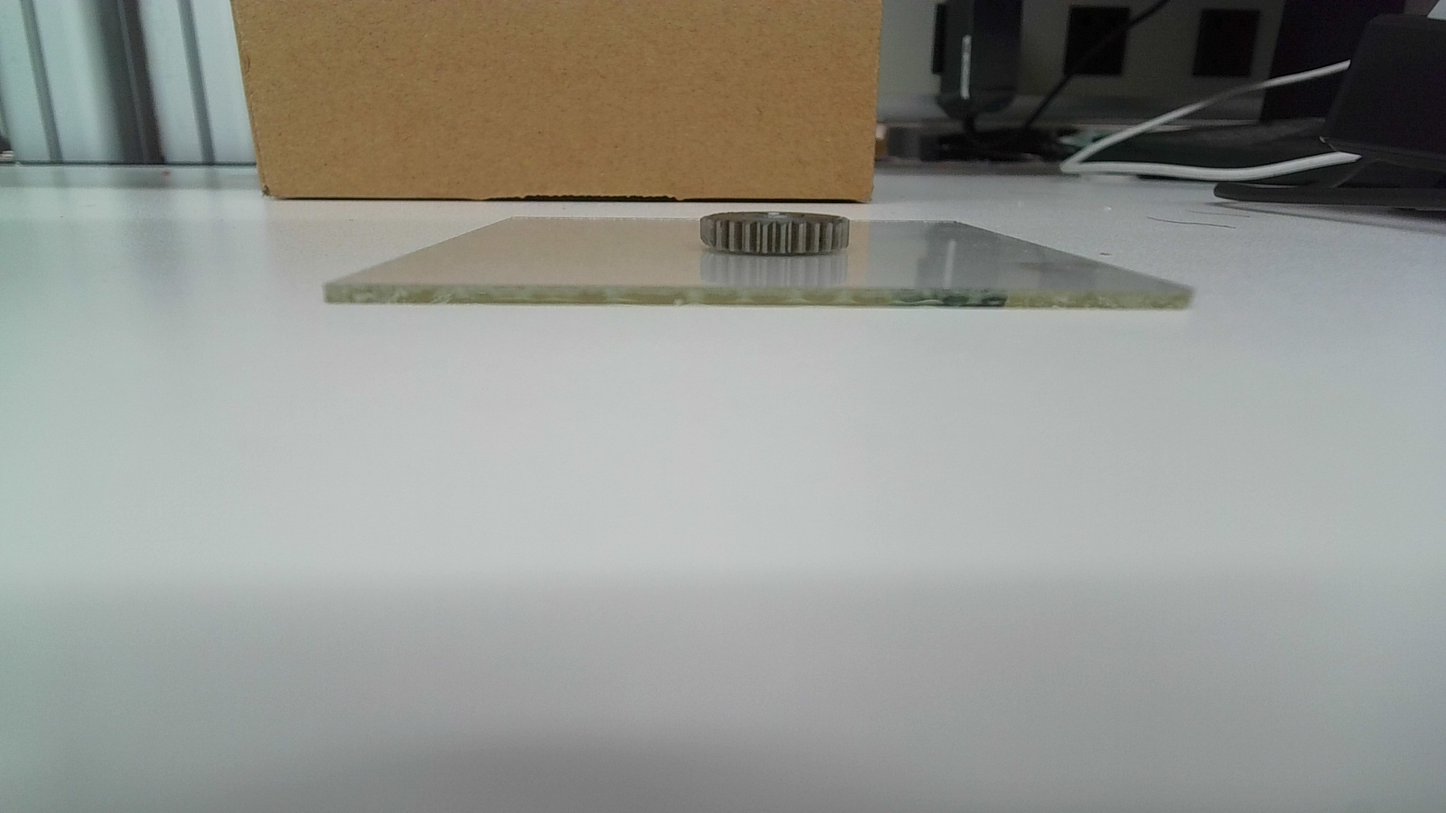gear: (697, 209, 855, 260)
